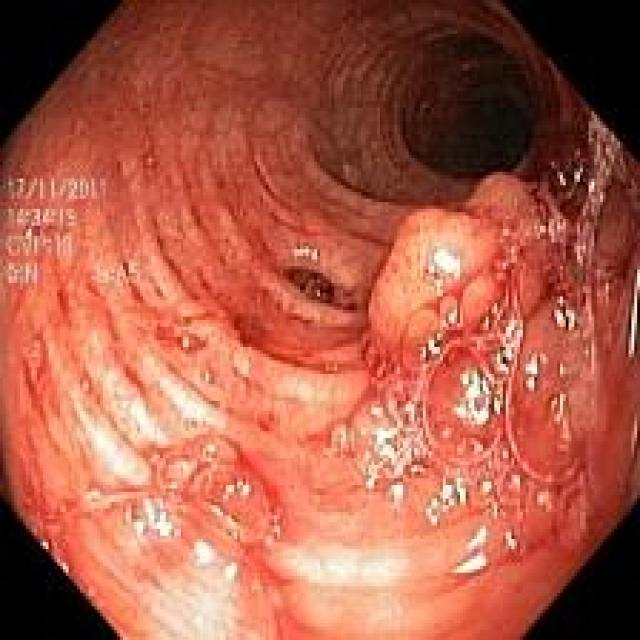Polyps: (369, 208, 500, 359), (462, 172, 534, 225)
